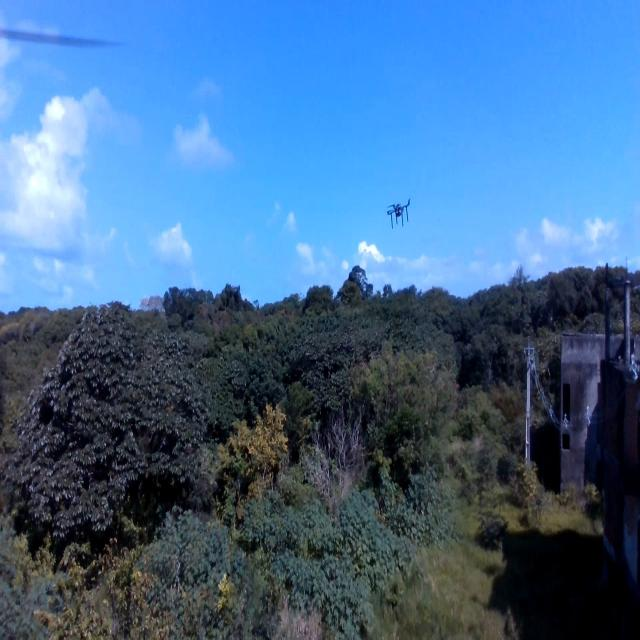-uav-: (382, 200, 417, 240)
